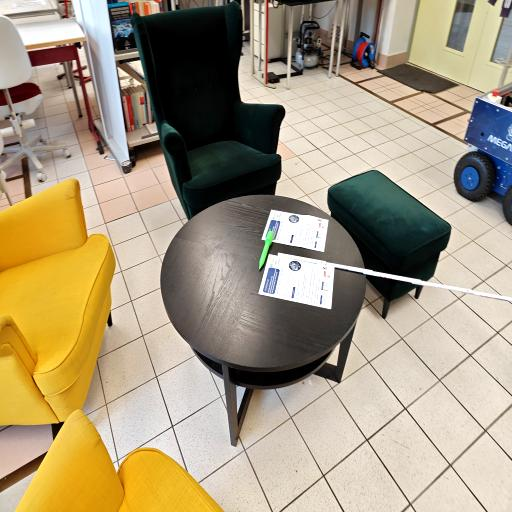Probe-Detection: (259, 230, 274, 269)
